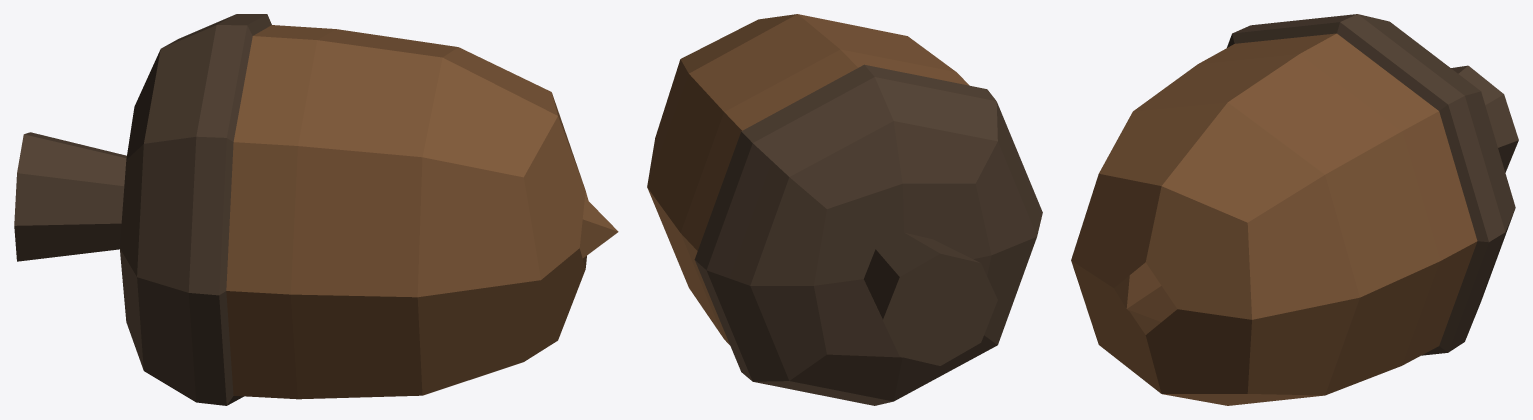
The model's file is dotori6.gltf.
The picture shows the model from 3 angles, left to right: view 1: azimuth 30°, elevation 25°; view 2: azimuth 150°, elevation 25°; view 3: azimuth 270°, elevation 25°; orthographic projection. The views are drawn at different scales.
Visible parts, largest first — view 1: Cube.005_Cube.010, Cube.006_Cube.009; view 2: Cube.006_Cube.009, Cube.005_Cube.010; view 3: Cube.005_Cube.010, Cube.006_Cube.009.
Boxes of the visible parts, x1,y1,x2,y2 form: Cube.005_Cube.010: (226, 25, 618, 399); Cube.006_Cube.009: (14, 14, 271, 405); Cube.006_Cube.009: (694, 64, 1042, 405); Cube.005_Cube.010: (647, 14, 969, 344); Cube.005_Cube.010: (1071, 33, 1477, 405); Cube.006_Cube.009: (1227, 14, 1518, 355).
Bounding box in the file's own units: 2.72 × 2.04 × 2.42.
